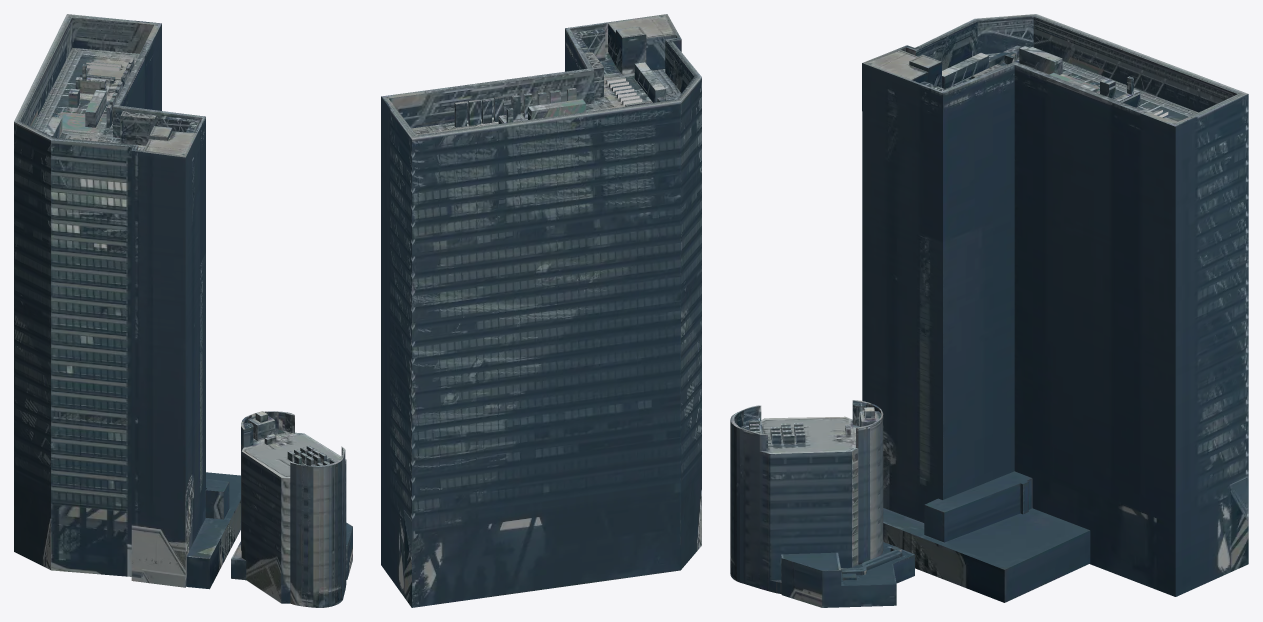
Rendered from data649.glb.
The picture shows the model from 3 angles, left to right: view 1: azimuth 30°, elevation 25°; view 2: azimuth 150°, elevation 25°; view 3: azimuth 270°, elevation 25°; orthographic projection. The views are drawn at different scales.
Bounding box in the file's own units: 70.88 × 122 × 121.
Materials: 2 (1 with a texture image).
